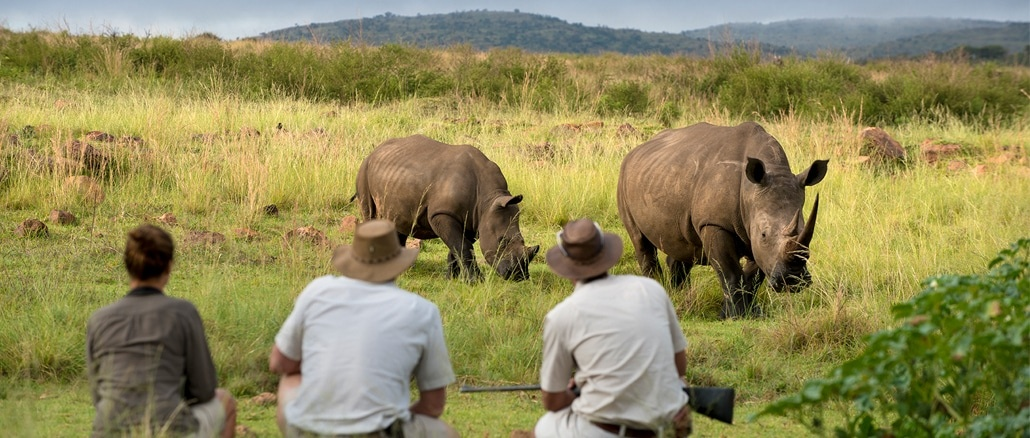rhino: (720, 215, 928, 404), (444, 206, 625, 352)
